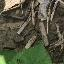Morning glory: (0, 26, 64, 64)
